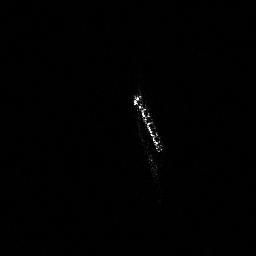ship: (129, 90, 166, 155)
